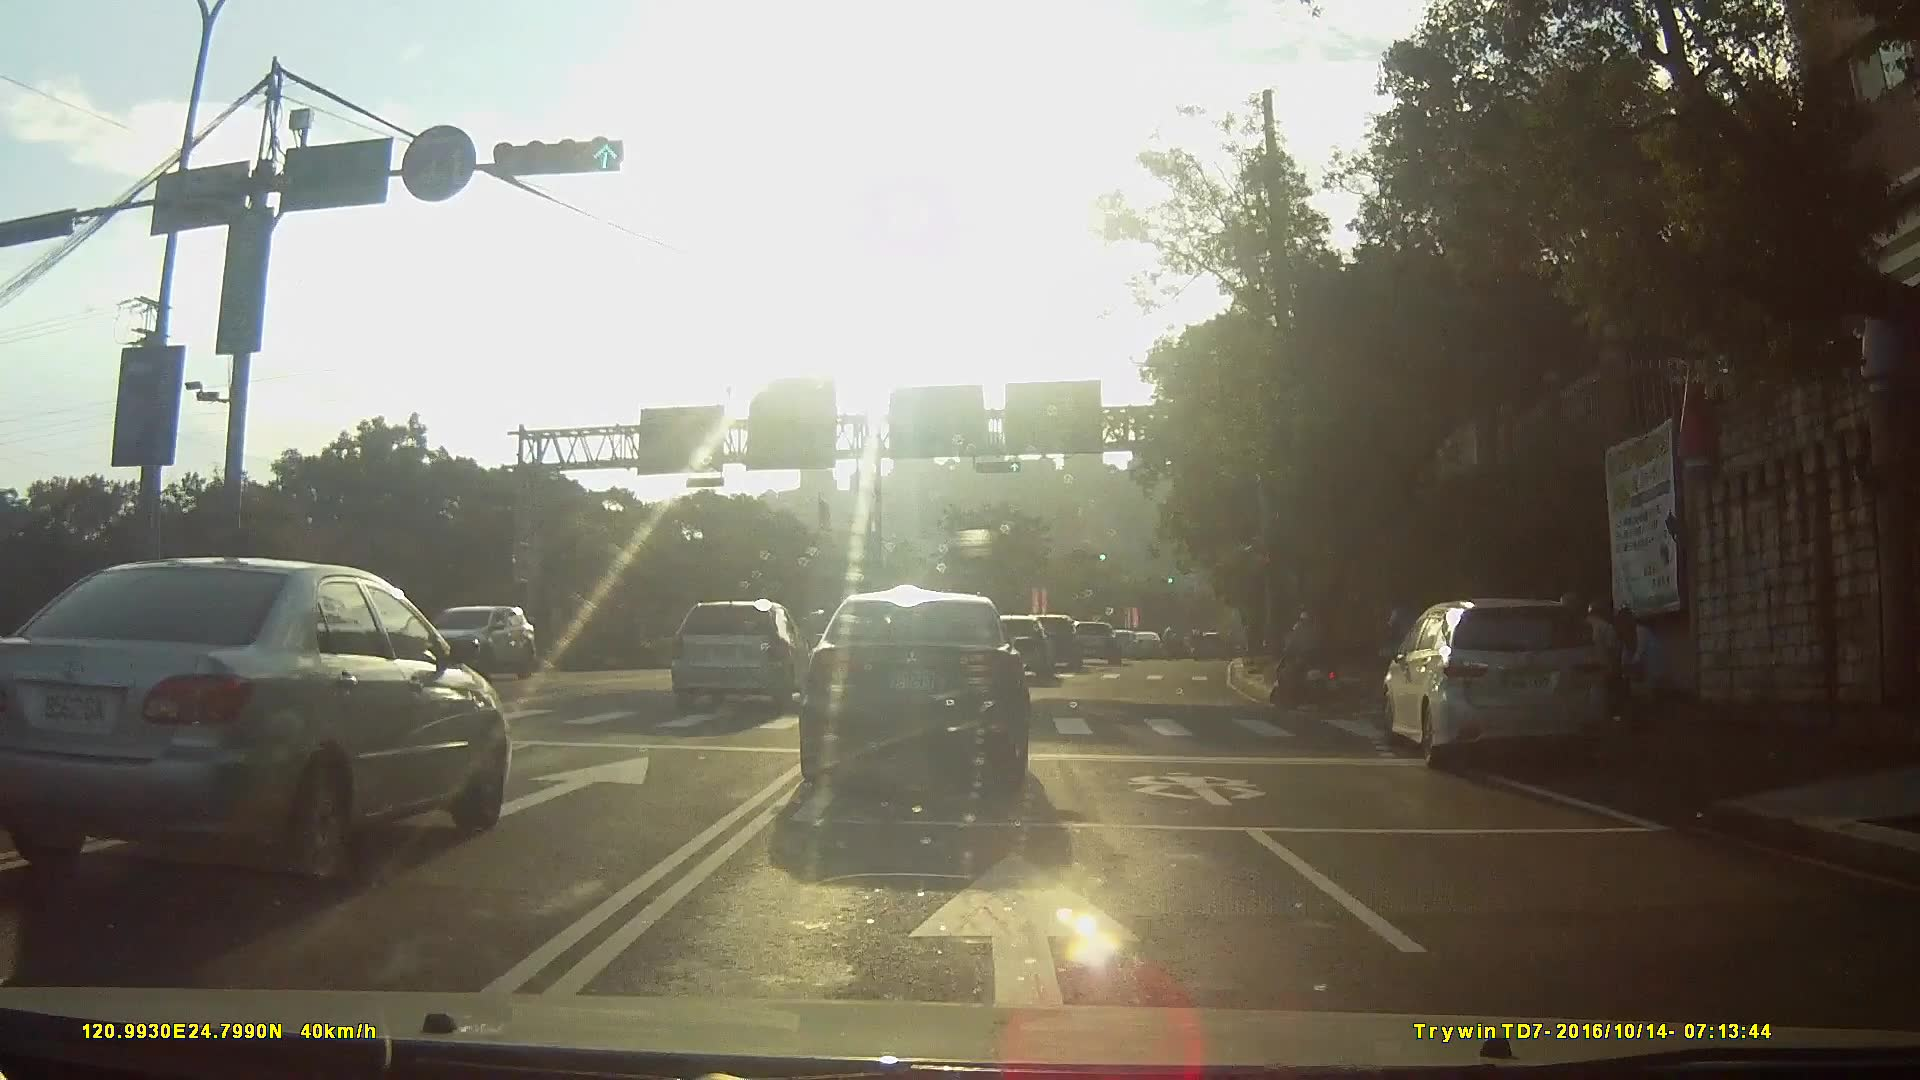pedestrian: (1610, 604, 1669, 707), (1583, 602, 1609, 725)
rider: (1266, 610, 1347, 710)
vehicle: (0, 557, 522, 896), (789, 595, 1057, 815), (1372, 599, 1632, 790), (168, 584, 385, 776), (677, 598, 826, 715), (398, 596, 550, 684), (998, 618, 1072, 688), (1032, 614, 1094, 672), (1078, 620, 1131, 666), (1112, 629, 1151, 661), (1136, 631, 1169, 659)
